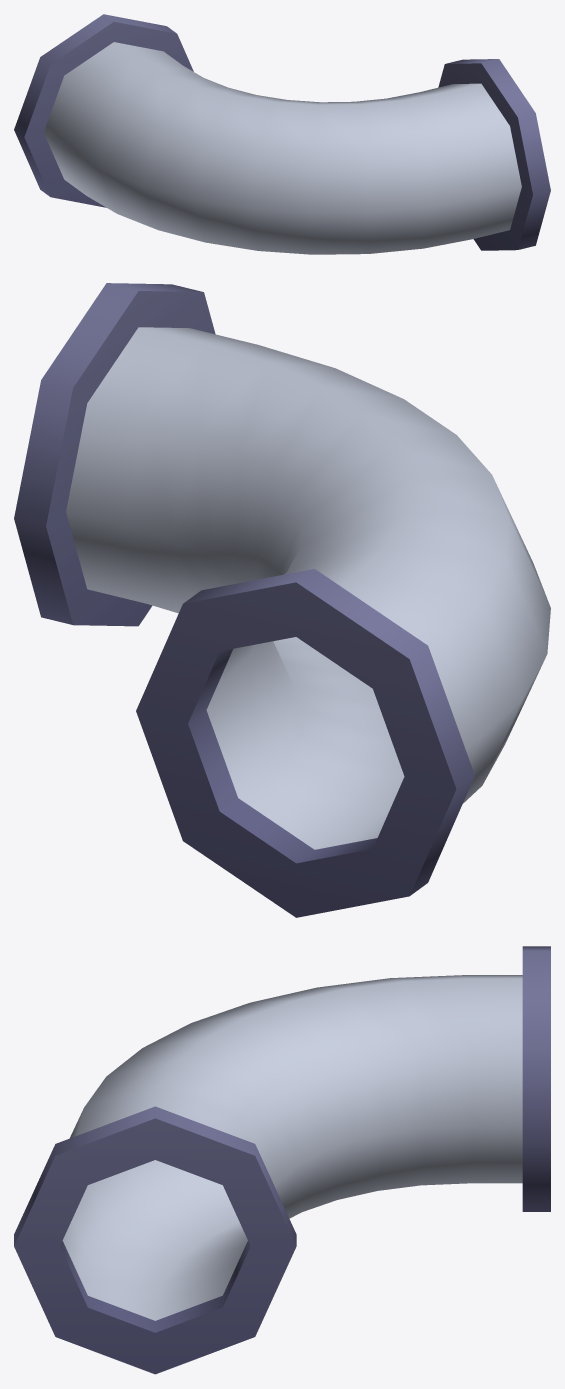
The model's file is kenney-factory-pipe-glass-large-bend.glb.
3 views of the same model, one above another, from view 1: azimuth 30°, elevation 25°; view 2: azimuth 150°, elevation 25°; view 3: azimuth 270°, elevation 25° (orthographic). The views are drawn at different scales.
Visible parts, largest first — view 1: pipe-glass-large-bend; view 2: pipe-glass-large-bend; view 3: pipe-glass-large-bend.
Boxes of the visible parts, <box> form: pipe-glass-large-bend: <box>14,14,550,254</box>; pipe-glass-large-bend: <box>14,283,550,917</box>; pipe-glass-large-bend: <box>14,946,550,1374</box>.
Size of the model in its own units: 1.9 by 1 by 1.9.
2 materials, 1 textured.
